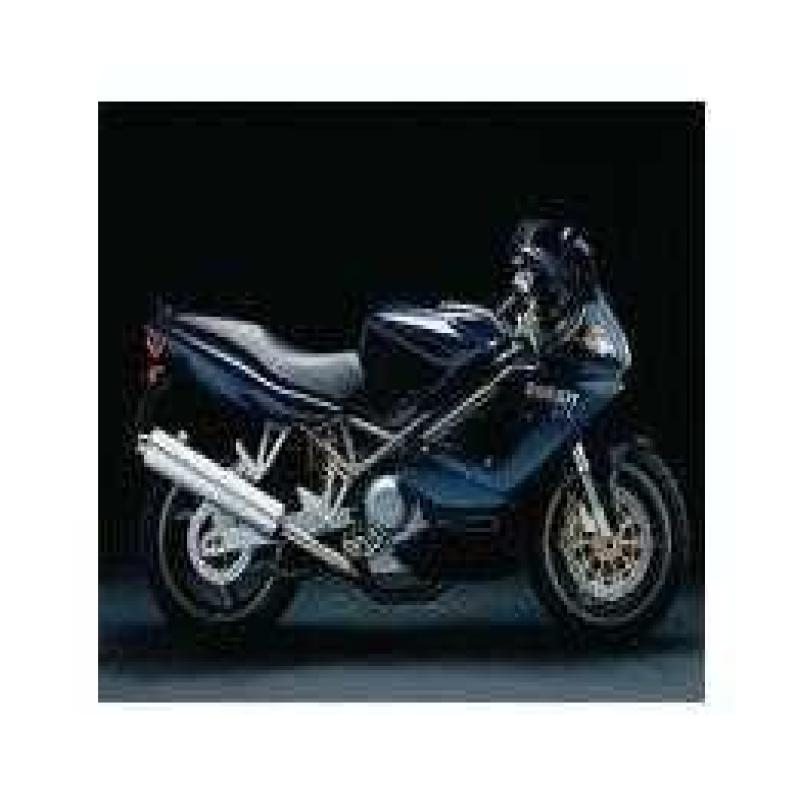bike: (122, 201, 692, 636)
